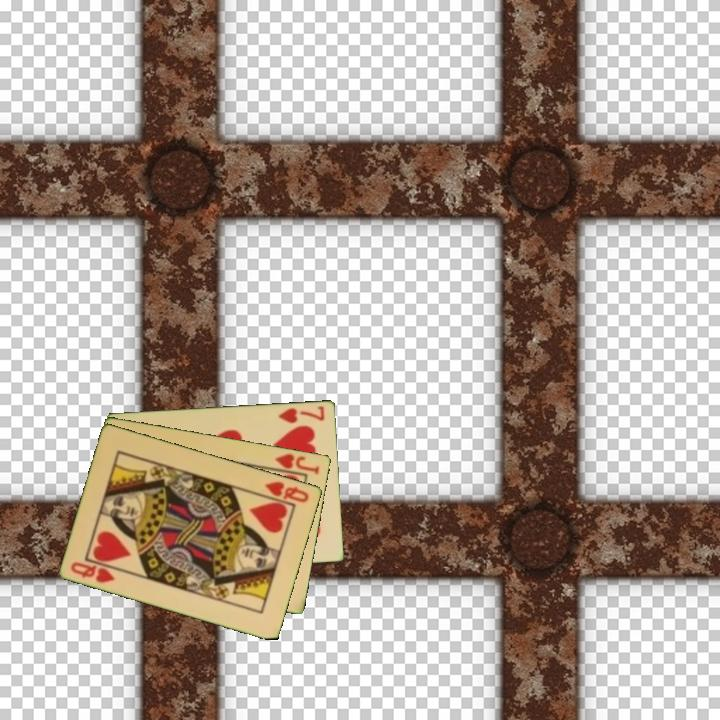7h: (275, 402, 328, 426)
Jh: (272, 450, 323, 477)
Qh: (256, 477, 312, 507), (68, 558, 118, 586)
